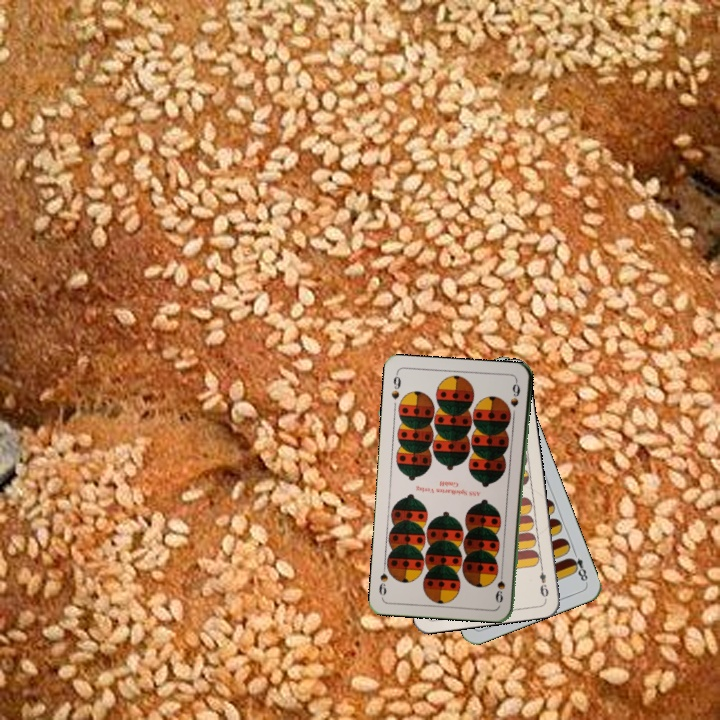E8: (566, 546, 591, 585)
E9: (535, 561, 551, 601)
S9: (493, 565, 507, 605), (387, 370, 403, 402)
